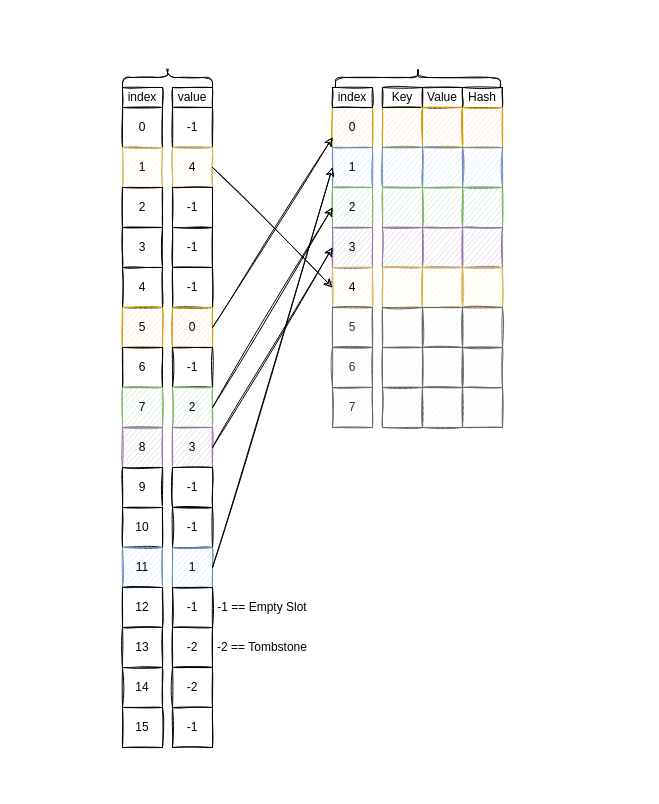
Some shapes in this 659 by 804 pixel diagram are drawn without their labels. Here are the shapes that lost their labels. From the top down, the centre of each, then its label:
At point 167,77: "int bins[]".
At point 417,77: "LProbEntry<K,V>[] entries".
